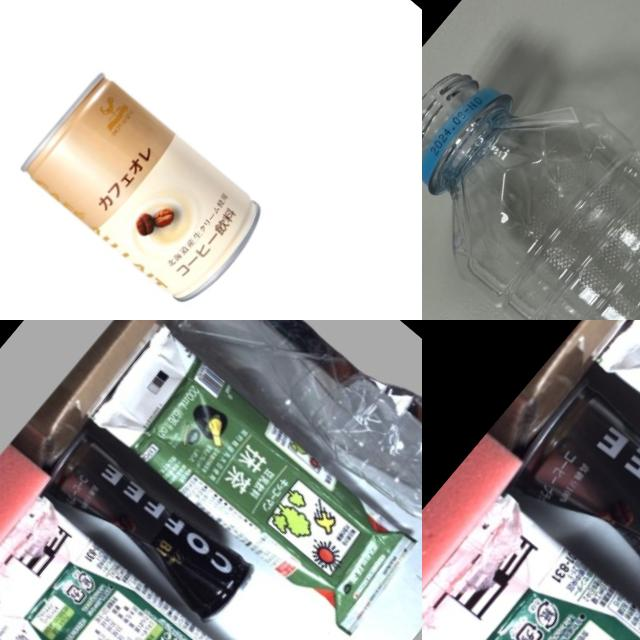Aluminium Foil: (84, 326, 422, 635), (0, 490, 344, 640), (422, 487, 640, 640), (583, 320, 640, 633)
Can: (2, 57, 277, 320), (38, 424, 264, 631), (503, 377, 640, 640)
Transparent Plastic Bottle: (160, 320, 422, 587), (422, 19, 640, 320)
